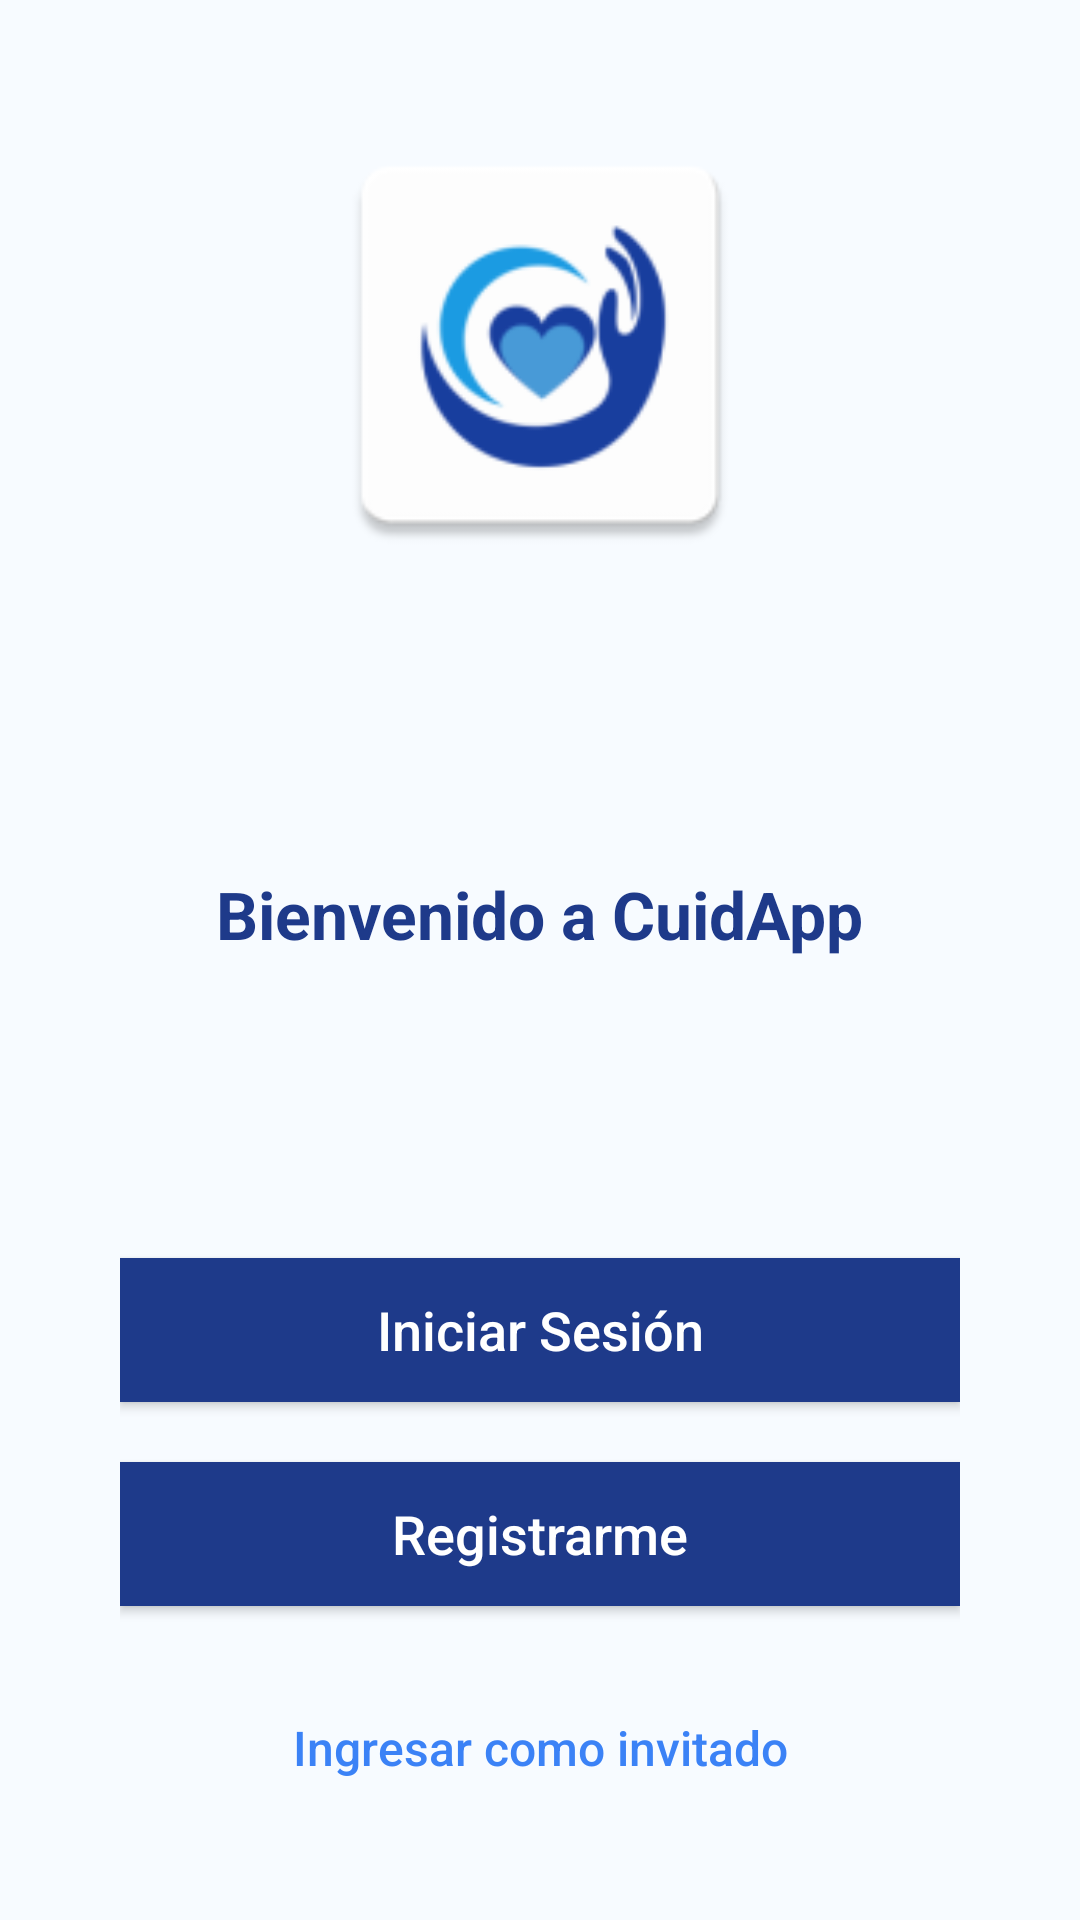

Named icons in this screenshot (1080px x 1920px) and their centers, point (x, y):
cuida: point (541, 359)
